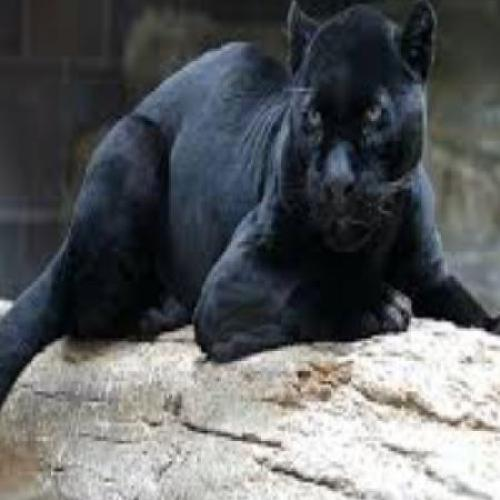panther-endangered: (7, 9, 487, 404)
